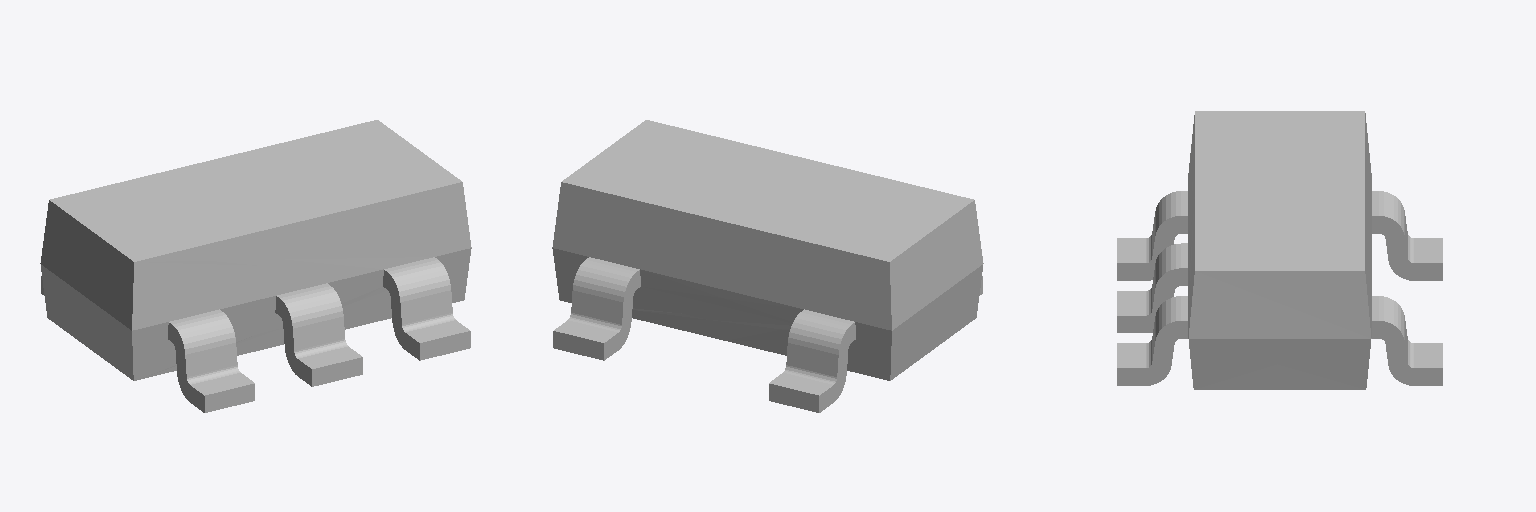
The model's file is fatflat.obj.
The picture shows the model from 3 angles: view 1: azimuth 30°, elevation 25°; view 2: azimuth 150°, elevation 25°; view 3: azimuth 270°, elevation 25°; orthographic projection.
Visible parts, largest first — view 1: Object.1; view 2: Object.1; view 3: Object.1.
Boxes of the visible parts, box(x1,y1,x2,y2) form: Object.1: box(40, 120, 471, 412); Object.1: box(552, 120, 983, 412); Object.1: box(1117, 111, 1442, 389).
Bounding box in the file's own units: 3 × 1.1 × 2.5.